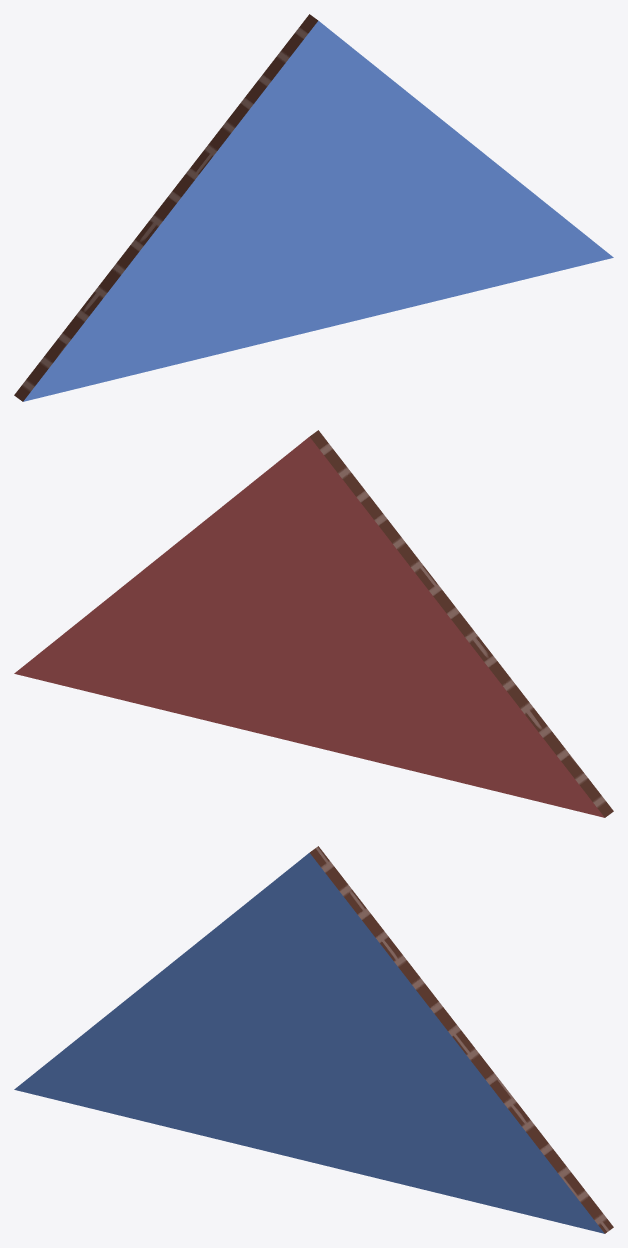
File: pediment2.FBX
3 views of the same model, one above another, from view 1: azimuth 30°, elevation 25°; view 2: azimuth 150°, elevation 25°; view 3: azimuth 330°, elevation 25° (orthographic).
Visible parts, largest first — view 1: 1; view 2: 1; view 3: 1.
Boxes of the visible parts, x1,y1,x2,y2 form: 1: [14, 14, 613, 401]; 1: [14, 430, 613, 817]; 1: [14, 846, 613, 1233].
Size of the model in its own units: 1900 by 950 by 50.
Materials: 3 (1 with a texture image).
